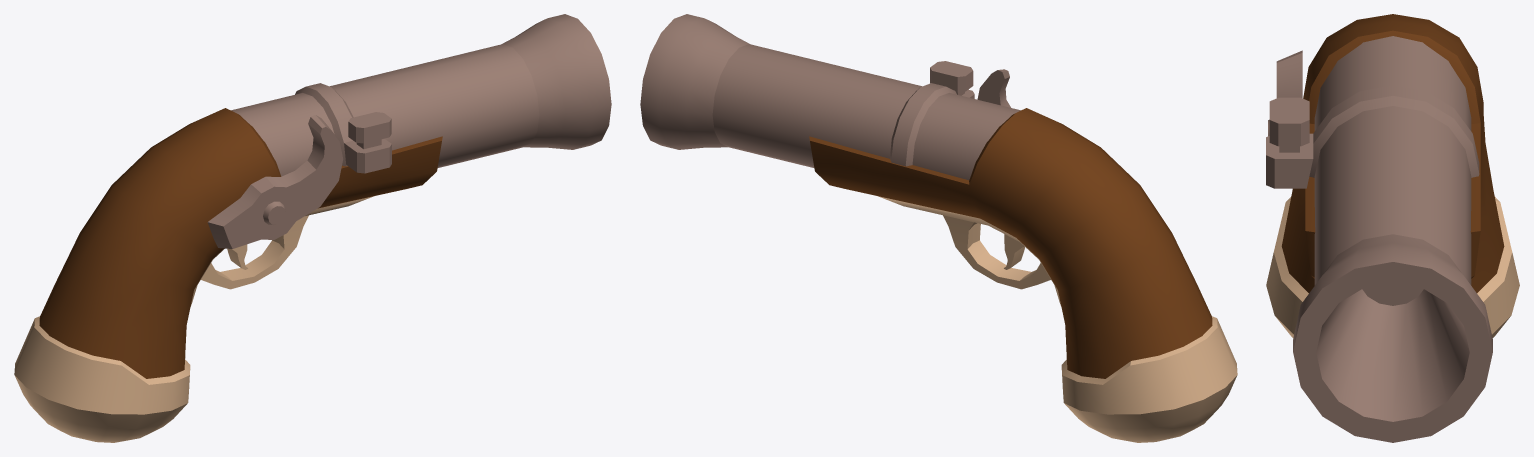
File: quaternius-pirate-weapon-pistol.glb
The picture shows the model from 3 angles, left to right: view 1: azimuth 30°, elevation 25°; view 2: azimuth 150°, elevation 25°; view 3: azimuth 270°, elevation 25°; orthographic projection. The views are drawn at different scales.
Parts seen in each view (by area): view 1: Weapon_Pistol; view 2: Weapon_Pistol; view 3: Weapon_Pistol.
Part boxes in pixels (x1=…): Weapon_Pistol: x1=14, y1=14, x2=611, y2=442; Weapon_Pistol: x1=640, y1=14, x2=1237, y2=442; Weapon_Pistol: x1=1266, y1=14, x2=1519, y2=442.
Bounding box in the file's own units: 1.24 × 0.6451 × 0.3342.
1 material, 1 textured.
